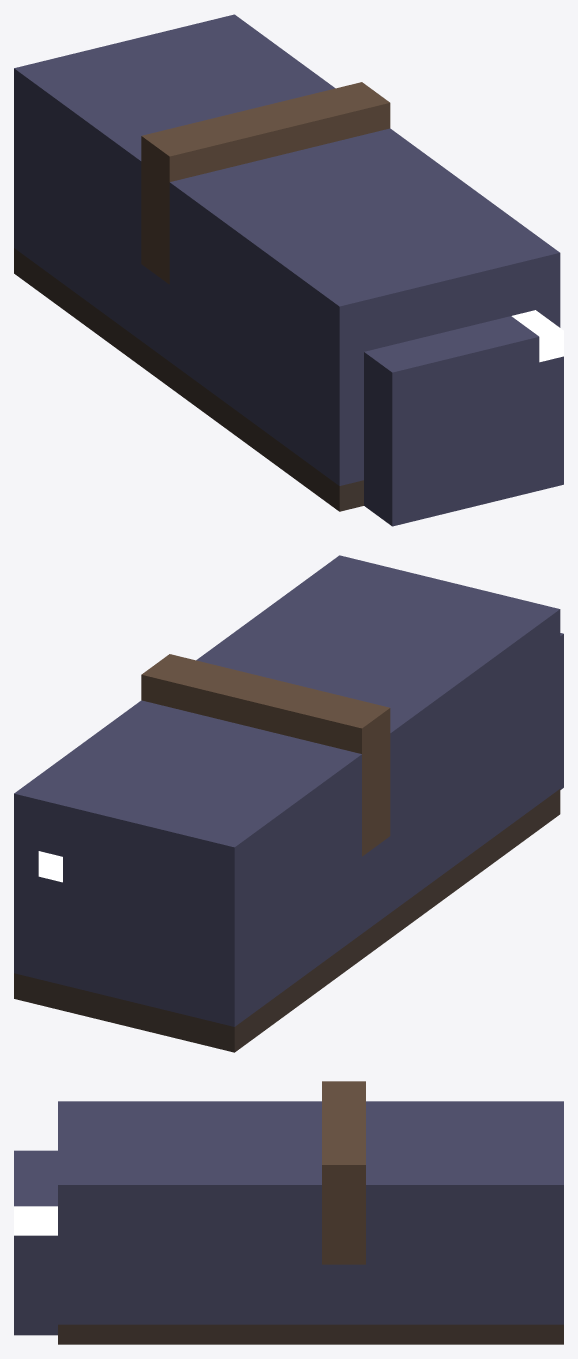
Rendered from mystic_rare_boot_foot_L.glb.
The picture shows the model from 3 angles, top to bottom: view 1: azimuth 30°, elevation 25°; view 2: azimuth 150°, elevation 25°; view 3: azimuth 270°, elevation 25°; orthographic projection. The views are drawn at different scales.
Parts seen in each view (by area): view 1: mystic_rare_boot_foot_L; view 2: mystic_rare_boot_foot_L; view 3: mystic_rare_boot_foot_L.
Boxes of the visible parts, x1=… form: mystic_rare_boot_foot_L: x1=14, y1=14, x2=563, y2=526; mystic_rare_boot_foot_L: x1=14, y1=555, x2=563, y2=1052; mystic_rare_boot_foot_L: x1=14, y1=1081, x2=563, y2=1344.
Size of the model in its own units: 0.108 by 0.108 by 0.3.
